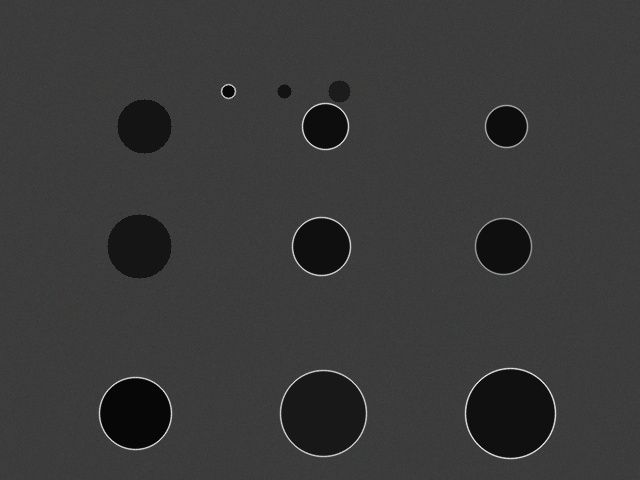hole: (465, 368, 555, 458), (280, 370, 366, 456), (99, 377, 171, 449), (107, 214, 171, 278), (292, 217, 350, 275), (475, 218, 531, 274), (117, 99, 171, 153), (302, 103, 348, 149), (485, 105, 527, 147), (328, 80, 350, 102), (221, 84, 235, 98), (277, 84, 291, 98)
